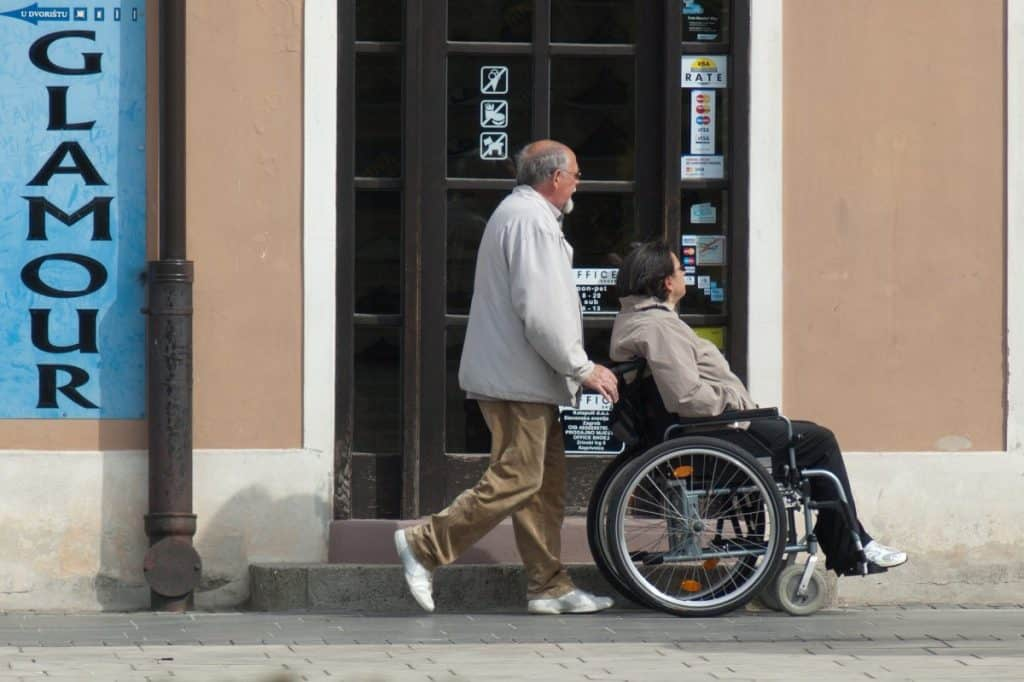wheelchair: (585, 242, 907, 616)
